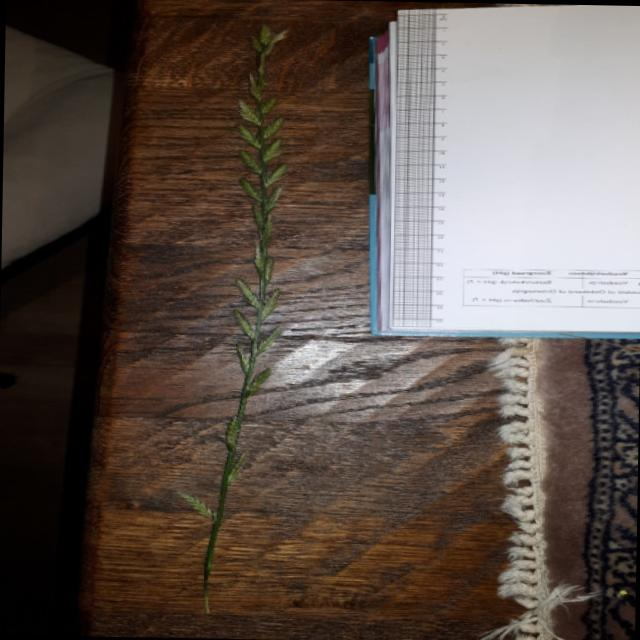Lolium: (178, 21, 300, 616)
